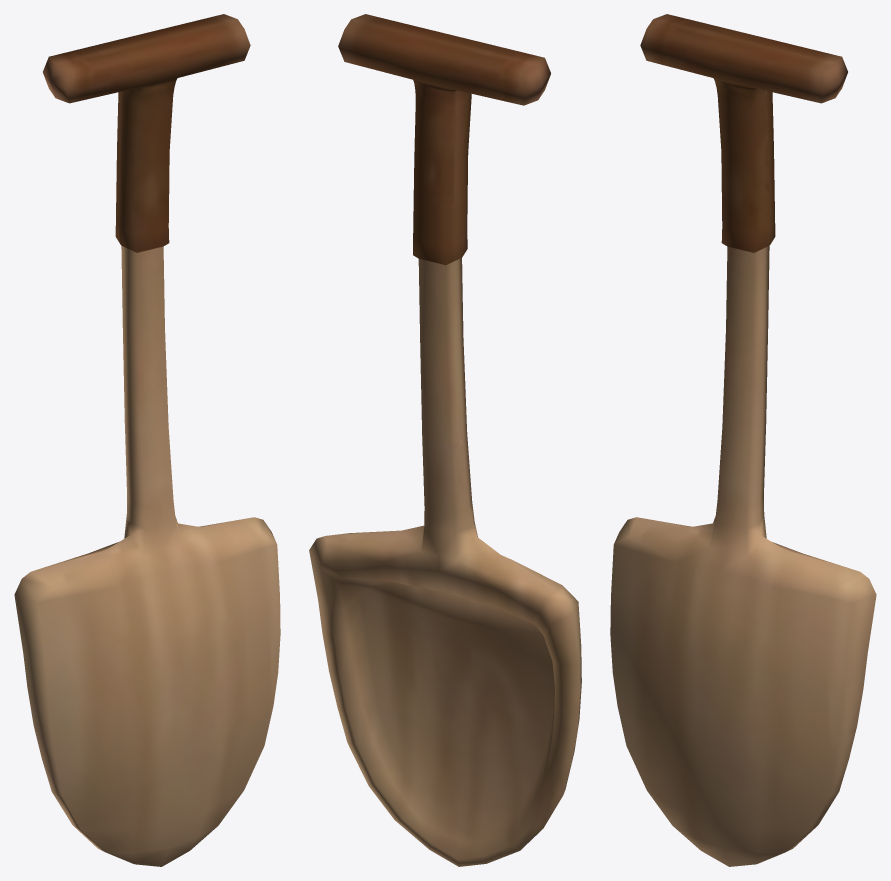
File: shovel.glb
3 renders of one model, left to right at view 1: azimuth 30°, elevation 25°; view 2: azimuth 150°, elevation 25°; view 3: azimuth 330°, elevation 25°, orthographic. The views are drawn at different scales.
Bounding box in the file's own units: 4.04 × 12.23 × 1.38.
1 material, 1 textured.
